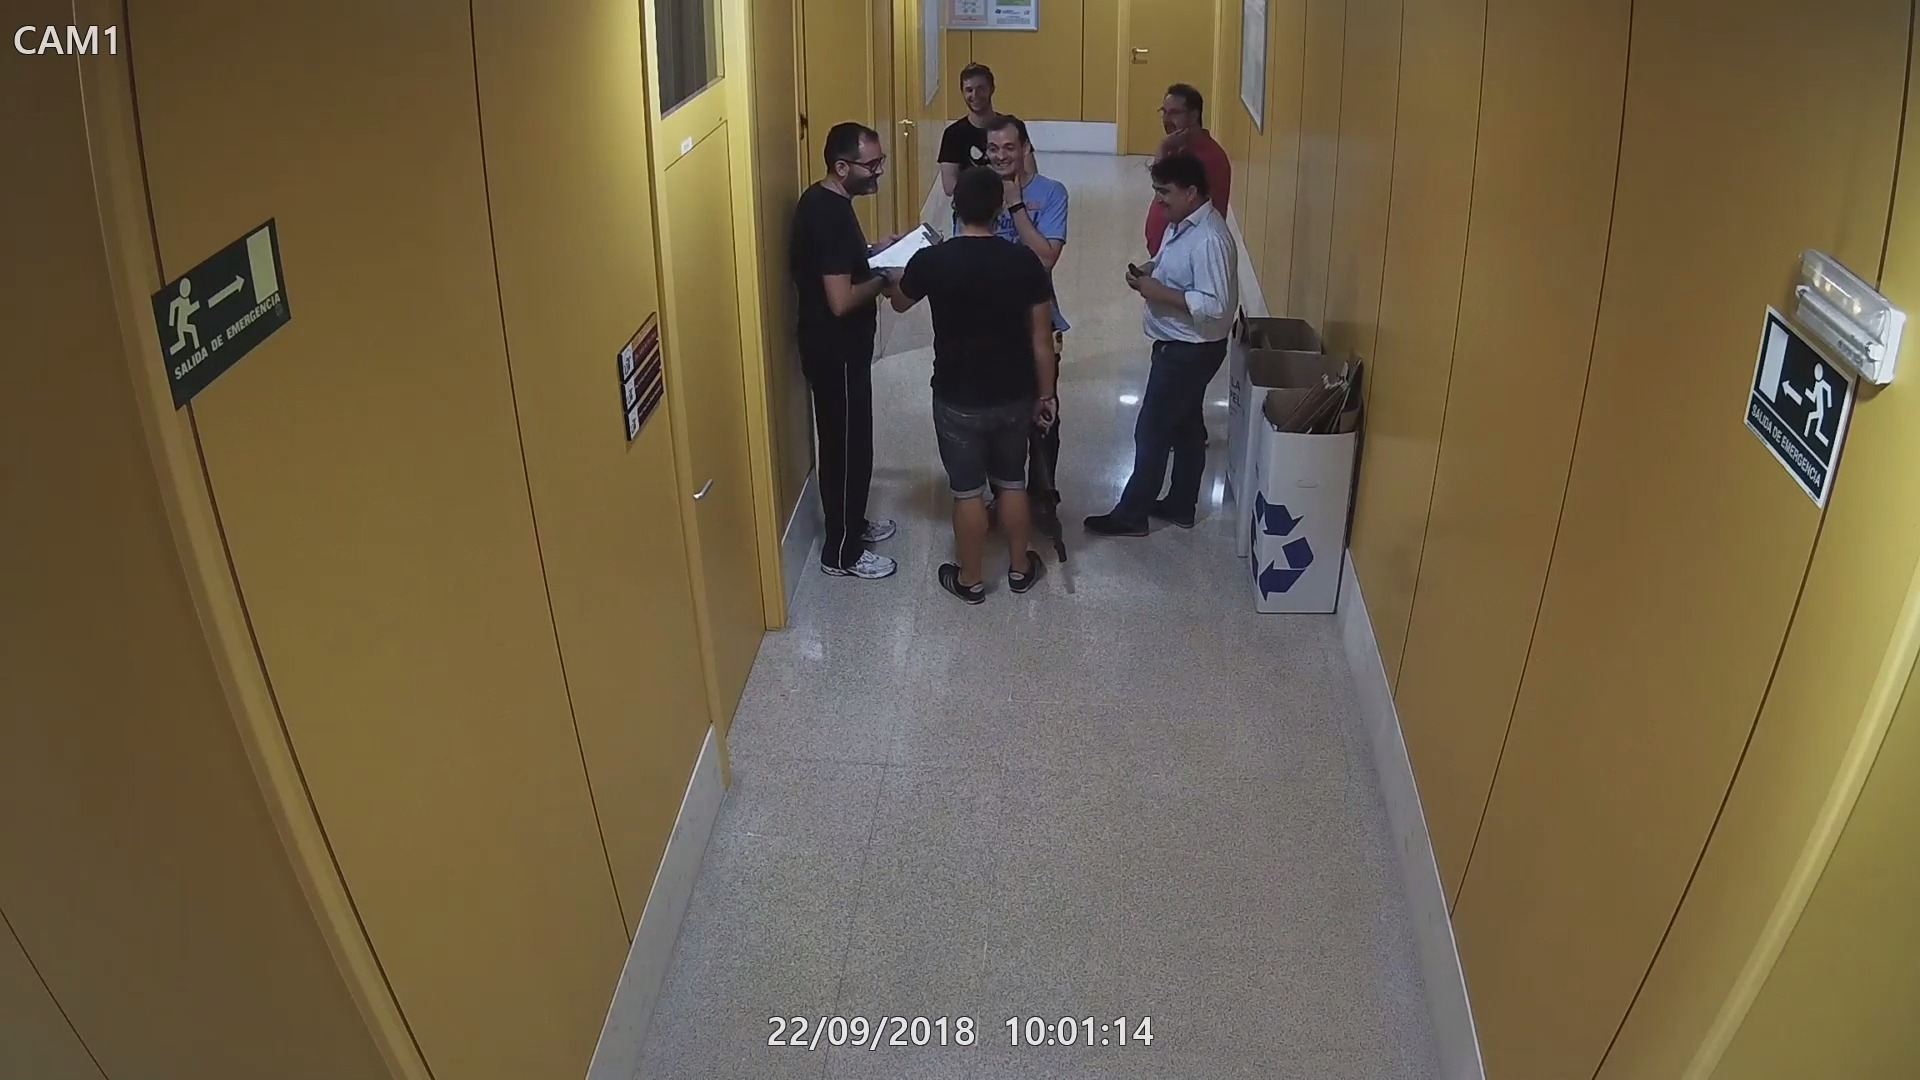pistol: (1122, 262, 1159, 297)
rifle: (1025, 404, 1069, 560)
